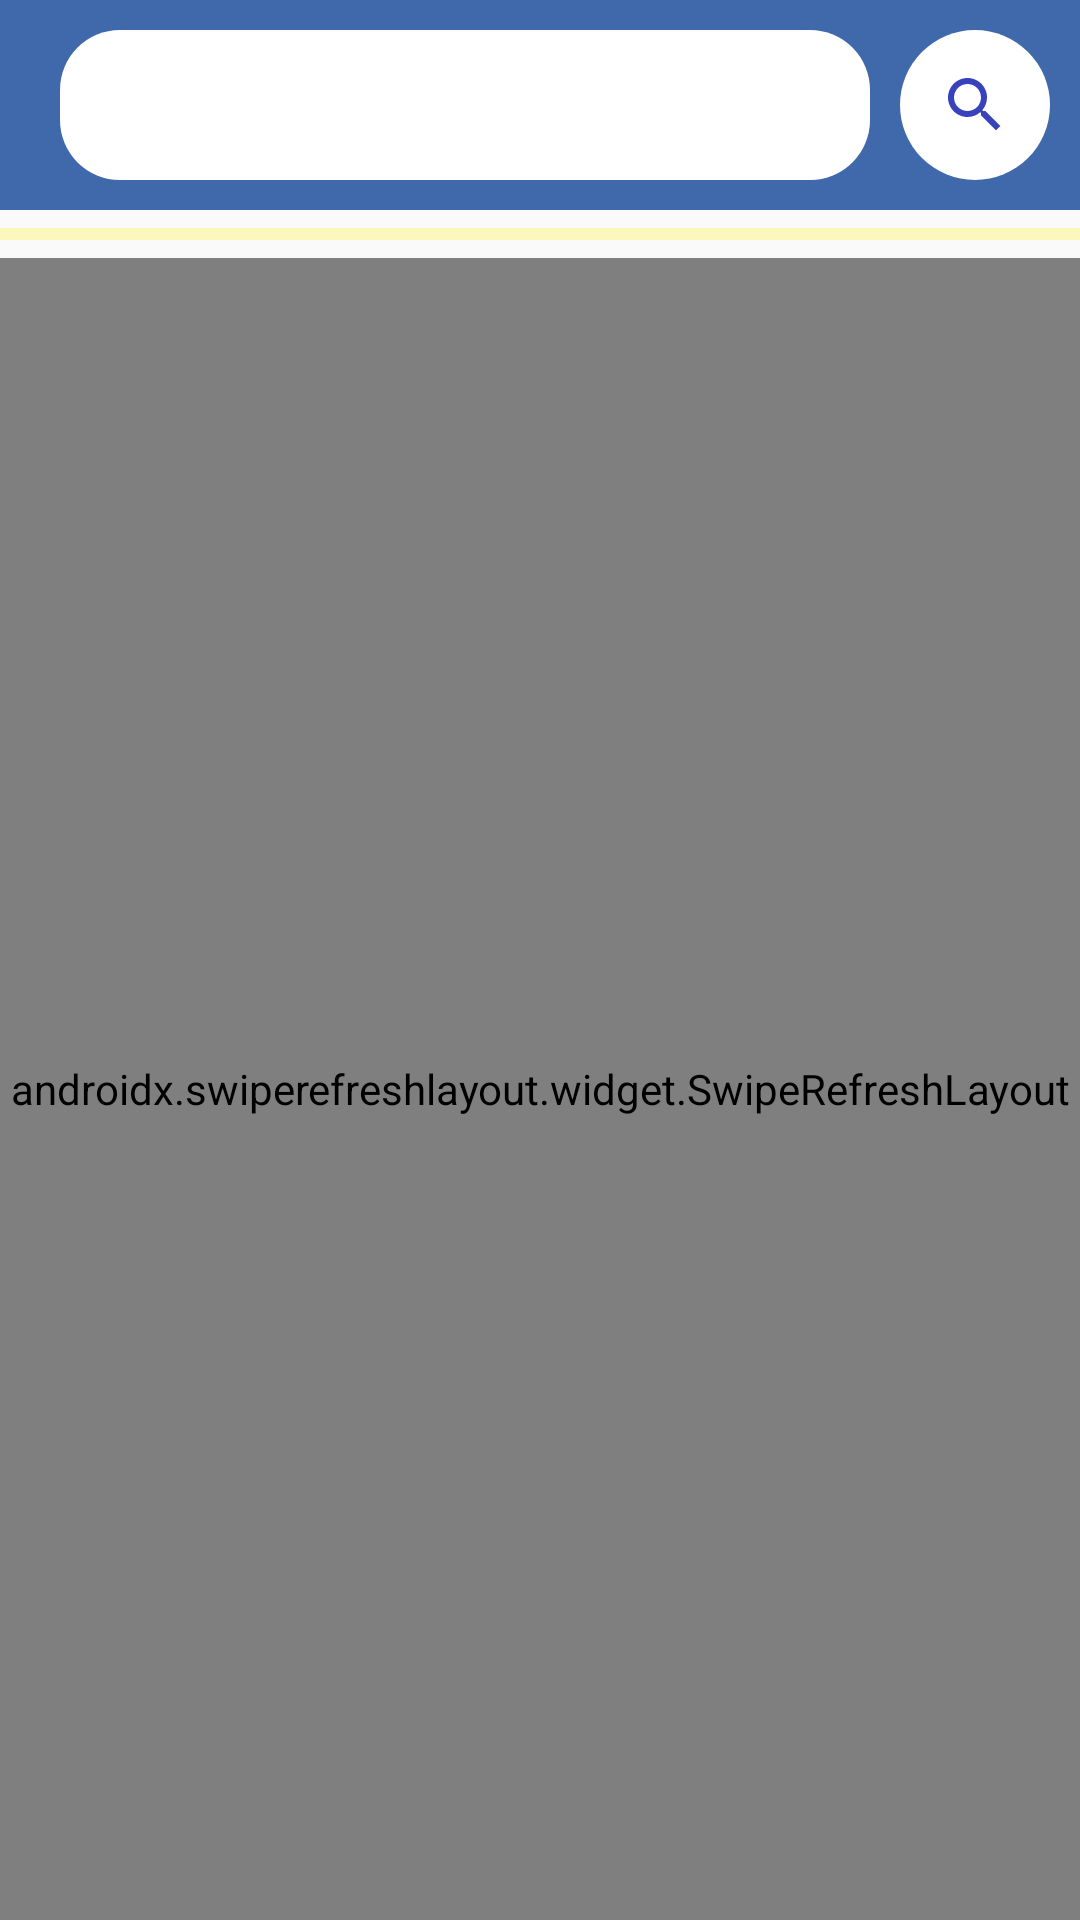

Point at icon controls on the screen. Image size 1080 x 1920, points as (x,y).
searchicon: (975,105)
